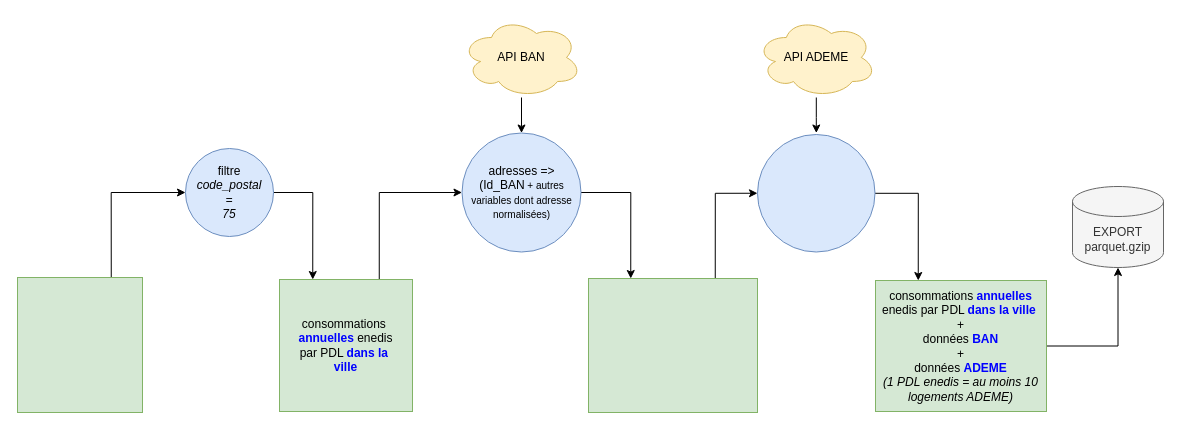
This 1181x430 diagram has some shape labels left out. The shapes that lost their labels are listed below. From the top down, each one's centre as x and y in pixels, then its label:
(x=815, y=193): id_BAN => données ADEME (caract. des logements dont DPE avant et après 2021)
(x=79, y=344): consommations annuelle enedis aggrégées par PDL
(x=673, y=345): consommations annuelles enedis dans la ville + données BAN
